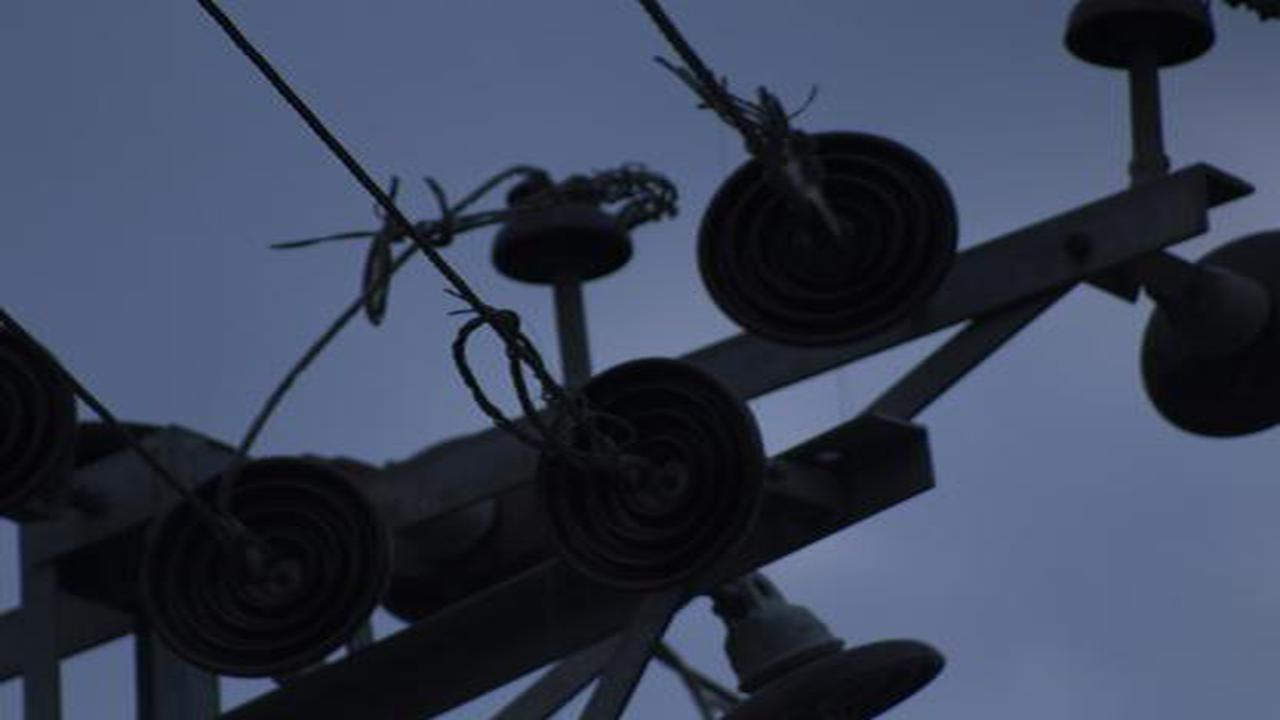insulator_disc: (695, 126, 969, 360), (132, 456, 403, 676), (535, 359, 773, 607), (1128, 228, 1268, 441)
insulator_pin: (479, 167, 638, 288)
